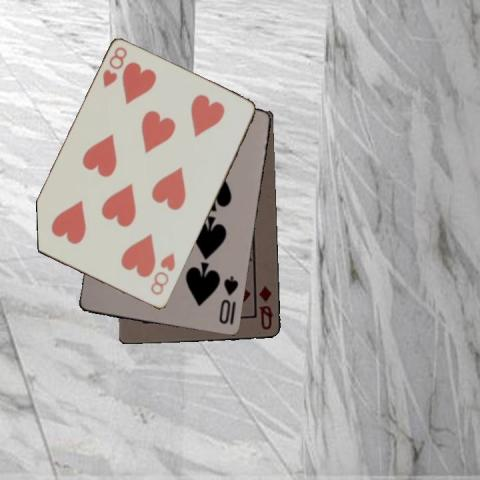10s: (216, 274, 240, 326)
8h: (147, 250, 177, 297), (99, 44, 129, 89)
Qd: (256, 284, 274, 332)
